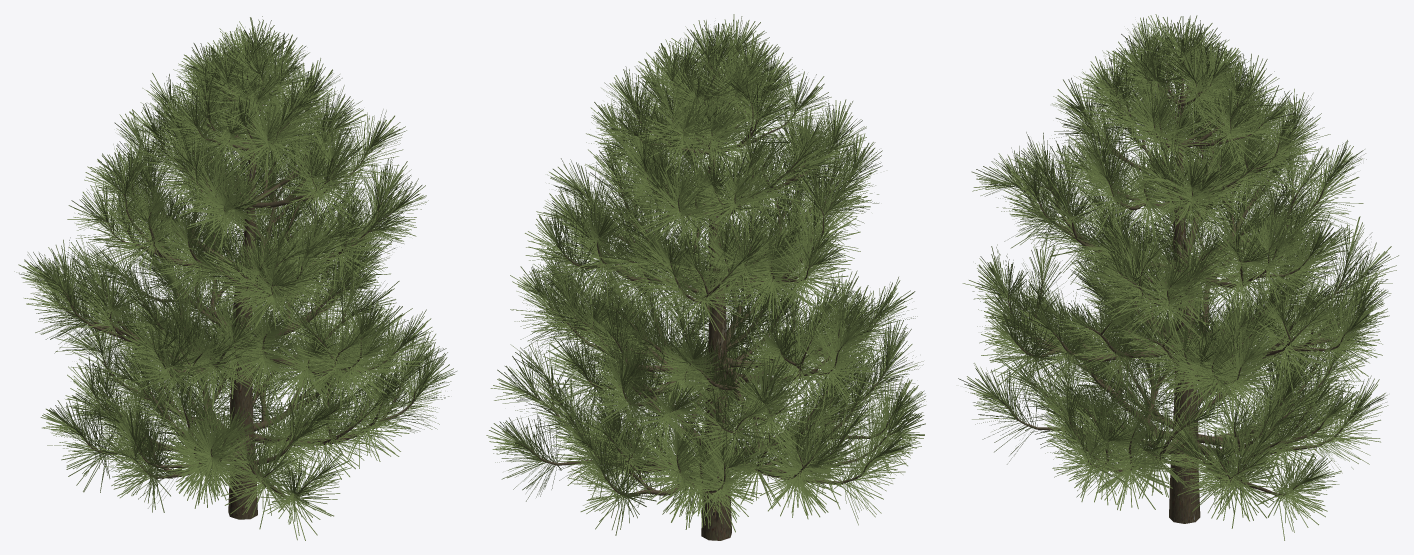
Rendered from chunky_pine.fbx.
The picture shows the model from 3 angles, left to right: view 1: azimuth 30°, elevation 25°; view 2: azimuth 150°, elevation 25°; view 3: azimuth 270°, elevation 25°; orthographic projection. The views are drawn at different scales.
Visible parts, largest first — view 1: leaves, tree; view 2: leaves, tree; view 3: leaves, tree.
Part boxes in pixels (x1,y1,x2,y2): leaves: (14, 16, 456, 540); tree: (58, 64, 422, 519); leaves: (486, 14, 925, 535); tree: (521, 49, 896, 540); leaves: (958, 14, 1398, 540); tree: (991, 60, 1366, 523).
Size of the model in its own units: 459 by 565 by 453.
Materials: 2 (1 with a texture image).
